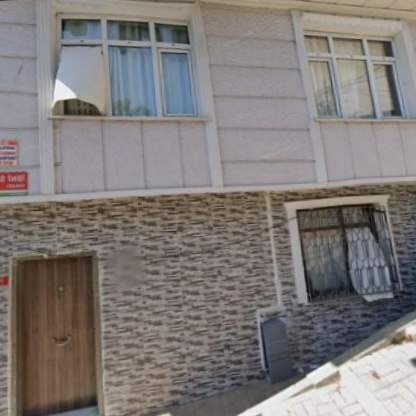door: (14, 257, 101, 416)
